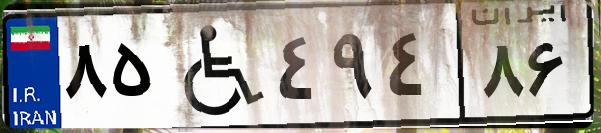4: (270, 28, 330, 110), (385, 28, 445, 110)
5: (110, 28, 158, 98)
6: (525, 38, 570, 115)
8: (57, 26, 110, 100), (475, 38, 525, 113)
9: (330, 28, 385, 110)
ژ (معلولین و جانبازان): (158, 12, 270, 120)
